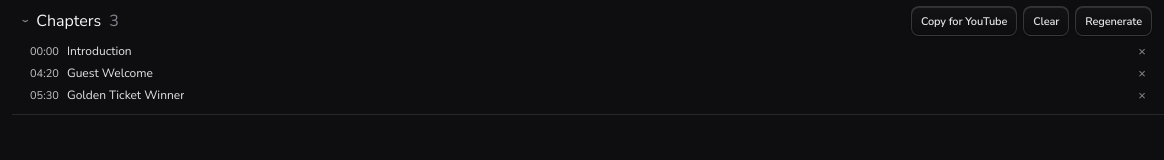
AI chapters › folds to the header when the title is clicked
Click the button "› Chapters 3" at coordinates (71, 21), box [24, 10, 119, 32]
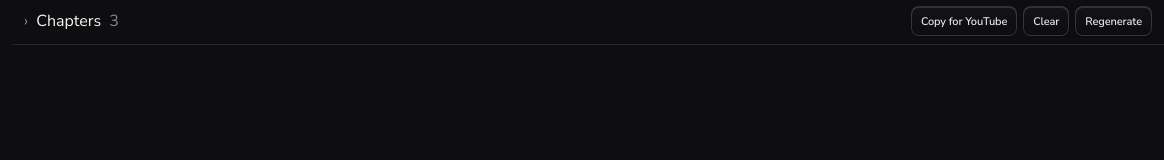
Expected: the button "› Chapters 3" is collapsed, [24, 10, 119, 32]
